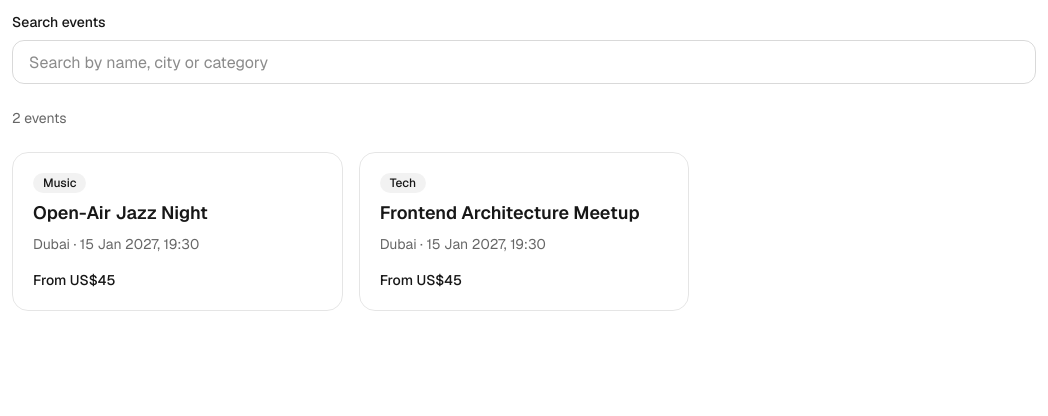
Test: EventSearch › shows the problem detail and retries on error
The image size is (1048, 416).
In the search field: (524, 62) top-left (12, 40), bottom-right (1036, 84), type "jazz"
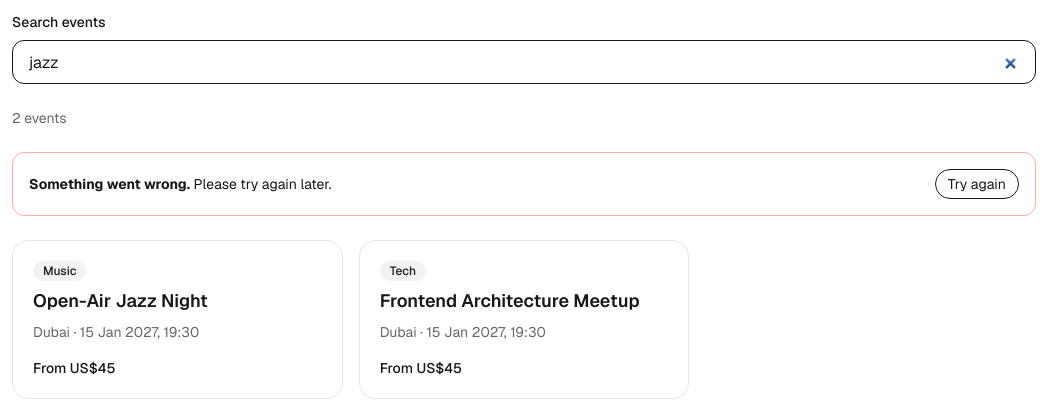
Check: the message "Something went wrong. Please try again later. Try again" is shown, box top-left (12, 152), bottom-right (1036, 216)
Click the button "Try again": (977, 184) top-left (935, 169), bottom-right (1019, 199)
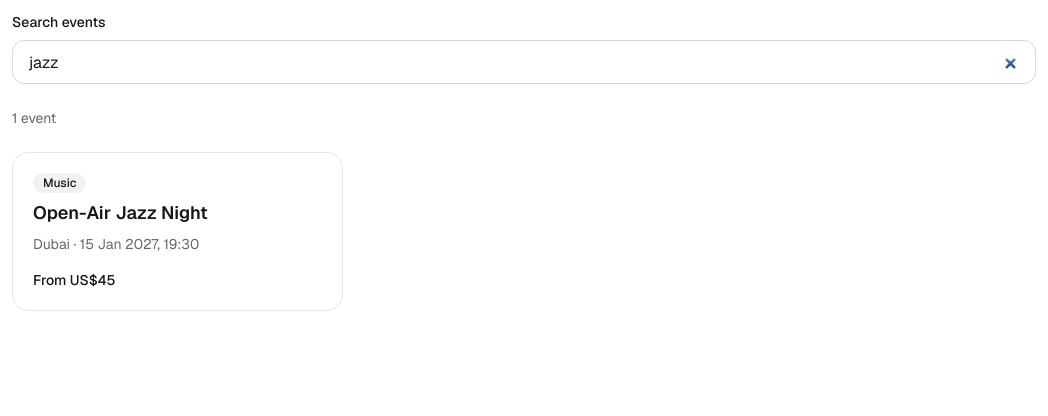
Check: the text "1 event" is shown, box top-left (12, 109), bottom-right (56, 127)
Check: the message "Something went wrong. Please try again later. Try again" is gone
